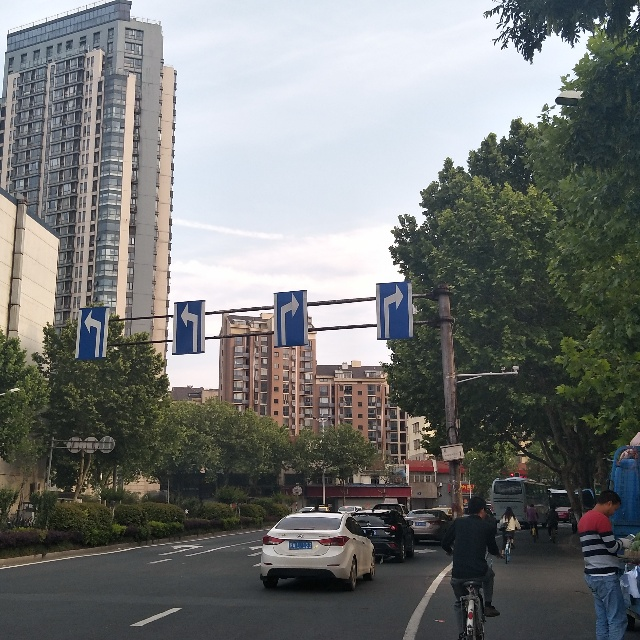left: (174, 302, 206, 357), (79, 306, 107, 354)
right: (379, 285, 412, 340), (277, 294, 305, 344)
